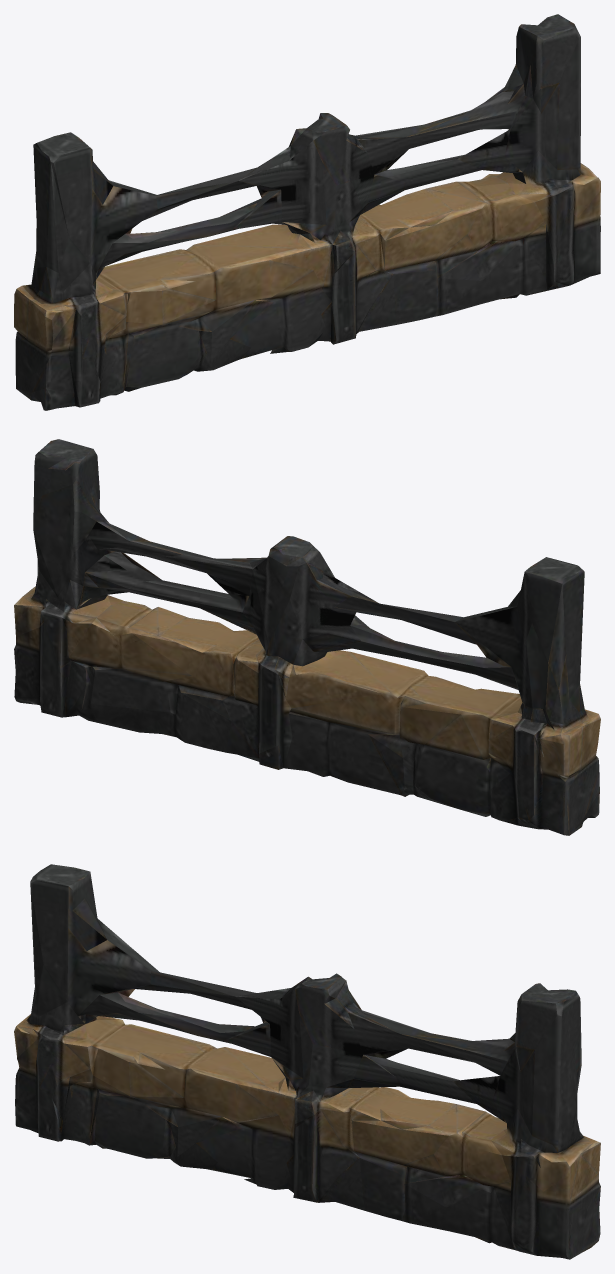
Rendered from railing-wall.lod.glb.
3 views of the same model, one above another, from view 1: azimuth 30°, elevation 25°; view 2: azimuth 150°, elevation 25°; view 3: azimuth 330°, elevation 25° (orthographic).
Visible parts, largest first — view 1: output_unwrapped; view 2: output_unwrapped; view 3: output_unwrapped.
Boxes of the visible parts, <box> form: output_unwrapped: <box>14,14,600,410</box>; output_unwrapped: <box>14,439,600,835</box>; output_unwrapped: <box>14,864,600,1259</box>.
Size of the model in its own units: 1.9 by 0.8237 by 0.2535.
1 material, 1 textured.
